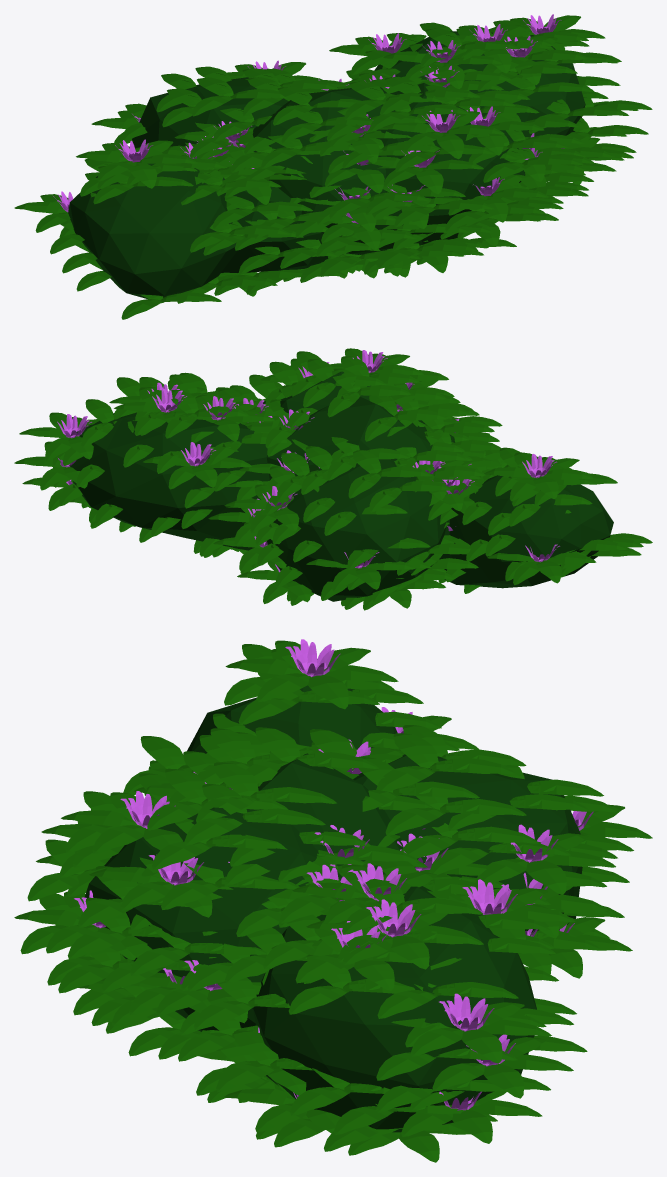
Rendered from 2x1 Bush.fbx.
3 views of the same model, one above another, from view 1: azimuth 30°, elevation 25°; view 2: azimuth 150°, elevation 25°; view 3: azimuth 270°, elevation 25° (orthographic). The views are drawn at different scales.
Parts seen in each view (by area): view 1: Icosphere, Icosphere|Flower2|Dupli|5.1, Icosphere|Flower2|Dupli|53.1, Icosphere|Flower2|Dupli|49.1, Icosphere|Flower2|Dupli|0.1, Icosphere|Flower2|Dupli|65.1, Icosphere|Flower2|Dupli|59.1, Icosphere|Flower2|Dupli|41.1, Icosphere|Leaf|Dupli|270, Icosphere|Flower2|Dupli|69.1, Icosphere|Leaf|Dupli|188, Icosphere|Flower2|Dupli|4.1 (+75 smaller); view 2: Icosphere, Icosphere|Flower2|Dupli|5.1, Icosphere|Flower2|Dupli|14.1, Icosphere|Flower2|Dupli|69.1, Icosphere|Flower2|Dupli|49.1, Icosphere|Flower2|Dupli|36.1, Icosphere|Flower2|Dupli|39.1, Icosphere|Flower2|Dupli|70.1, Icosphere|Leaf|Dupli|270, Icosphere|Leaf|Dupli|188, Icosphere|Leaf|Dupli|162, Icosphere|Leaf|Dupli|78 (+54 smaller); view 3: Icosphere, Icosphere|Flower2|Dupli|5.1, Icosphere|Flower2|Dupli|14.1, Icosphere|Flower2|Dupli|39.1, Icosphere|Flower2|Dupli|53.1, Icosphere|Flower2|Dupli|65.1, Icosphere|Flower2|Dupli|50.1, Icosphere|Flower2|Dupli|49.1, Icosphere|Flower2|Dupli|41.1, Icosphere|Flower2|Dupli|3.1, Icosphere|Leaf|Dupli|270, Icosphere|Leaf|Dupli|188 (+71 smaller).
Boxes of the visible parts, bbox=[...] form: Icosphere: bbox=[68, 31, 585, 298]; Icosphere|Flower2|Dupli|5.1: bbox=[76, 139, 197, 188]; Icosphere|Flower2|Dupli|53.1: bbox=[383, 110, 504, 159]; Icosphere|Flower2|Dupli|49.1: bbox=[383, 40, 501, 88]; Icosphere|Flower2|Dupli|0.1: bbox=[366, 150, 483, 194]; Icosphere|Flower2|Dupli|65.1: bbox=[453, 24, 551, 73]; Icosphere|Flower2|Dupli|59.1: bbox=[448, 174, 548, 222]; Icosphere|Flower2|Dupli|41.1: bbox=[465, 106, 544, 155]; Icosphere|Leaf|Dupli|270: bbox=[192, 77, 286, 116]; Icosphere|Flower2|Dupli|69.1: bbox=[329, 33, 426, 75]; Icosphere|Leaf|Dupli|188: bbox=[344, 81, 444, 120]; Icosphere|Flower2|Dupli|4.1: bbox=[309, 114, 411, 163]; Icosphere: bbox=[69, 371, 613, 601]; Icosphere|Flower2|Dupli|5.1: bbox=[484, 452, 592, 501]; Icosphere|Flower2|Dupli|14.1: bbox=[19, 412, 99, 461]; Icosphere|Flower2|Dupli|69.1: bbox=[143, 442, 251, 489]; Icosphere|Flower2|Dupli|49.1: bbox=[173, 394, 274, 442]; Icosphere|Flower2|Dupli|36.1: bbox=[487, 544, 596, 585]; Icosphere|Flower2|Dupli|39.1: bbox=[224, 484, 299, 533]; Icosphere|Flower2|Dupli|70.1: bbox=[306, 552, 415, 591]; Icosphere|Leaf|Dupli|270: bbox=[348, 450, 431, 498]; Icosphere|Leaf|Dupli|188: bbox=[327, 368, 410, 417]; Icosphere|Leaf|Dupli|162: bbox=[165, 389, 248, 438]; Icosphere|Leaf|Dupli|78: bbox=[365, 395, 447, 441]; Icosphere: bbox=[84, 685, 582, 1132]; Icosphere|Flower2|Dupli|5.1: bbox=[225, 639, 398, 709]; Icosphere|Flower2|Dupli|14.1: bbox=[391, 993, 551, 1063]; Icosphere|Flower2|Dupli|39.1: bbox=[475, 824, 615, 894]; Icosphere|Flower2|Dupli|53.1: bbox=[61, 791, 182, 853]; Icosphere|Flower2|Dupli|65.1: bbox=[306, 899, 467, 969]; Icosphere|Flower2|Dupli|50.1: bbox=[432, 1034, 573, 1098]; Icosphere|Flower2|Dupli|49.1: bbox=[292, 863, 461, 923]; Icosphere|Flower2|Dupli|41.1: bbox=[89, 854, 233, 917]; Icosphere|Flower2|Dupli|3.1: bbox=[401, 1091, 542, 1143]; Icosphere|Leaf|Dupli|270: bbox=[376, 733, 516, 791]; Icosphere|Leaf|Dupli|188: bbox=[196, 762, 336, 822].
Size of the model in its own units: 224 by 56.71 by 147.
